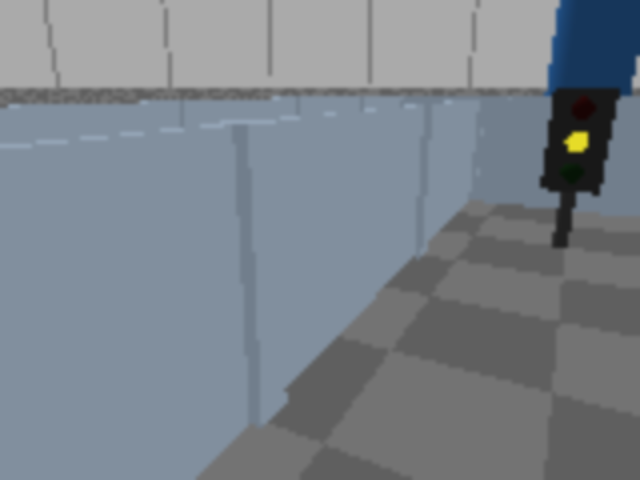traffic_light: (531, 79, 622, 257)
